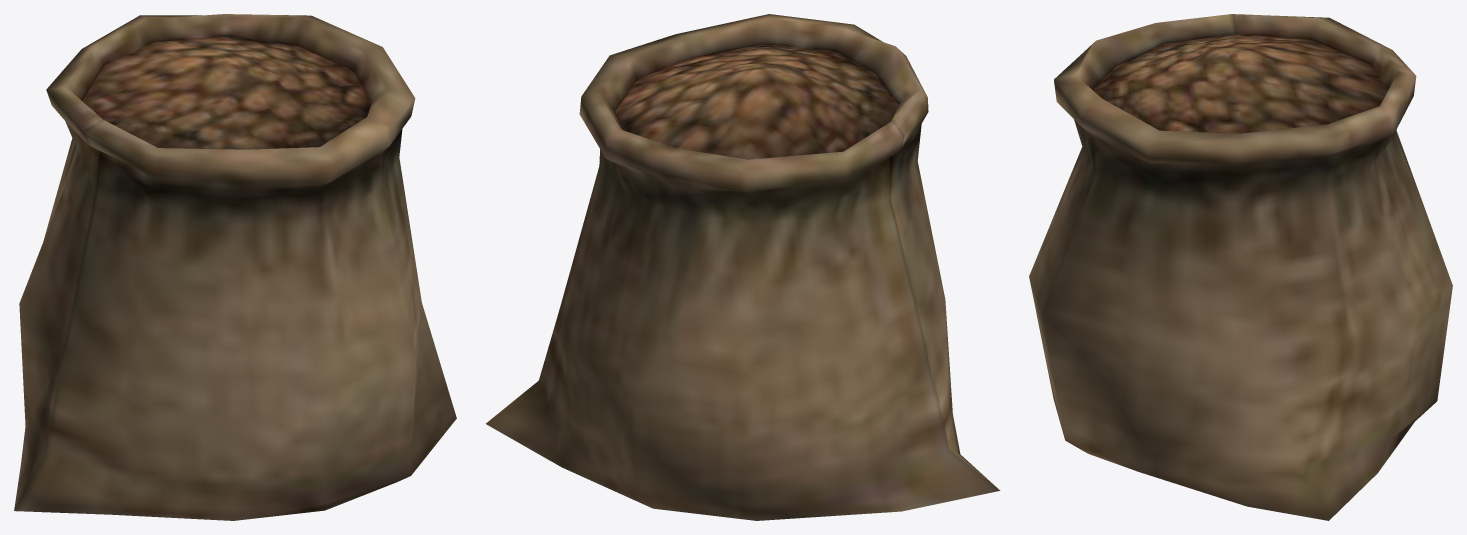
File: GYMA00104_11.FBX
3 views of the same model, side by side, from view 1: azimuth 30°, elevation 25°; view 2: azimuth 150°, elevation 25°; view 3: azimuth 270°, elevation 25° (orthographic). The views are drawn at different scales.
Visible parts, largest first — view 1: MA00104_11; view 2: MA00104_11; view 3: MA00104_11.
Part boxes in pixels (bbox=[...]): MA00104_11: bbox=[14, 14, 456, 520]; MA00104_11: bbox=[486, 14, 1000, 520]; MA00104_11: bbox=[1029, 14, 1452, 520].
Bounding box in the file's own units: 0.9002 × 0.7124 × 0.7569.
